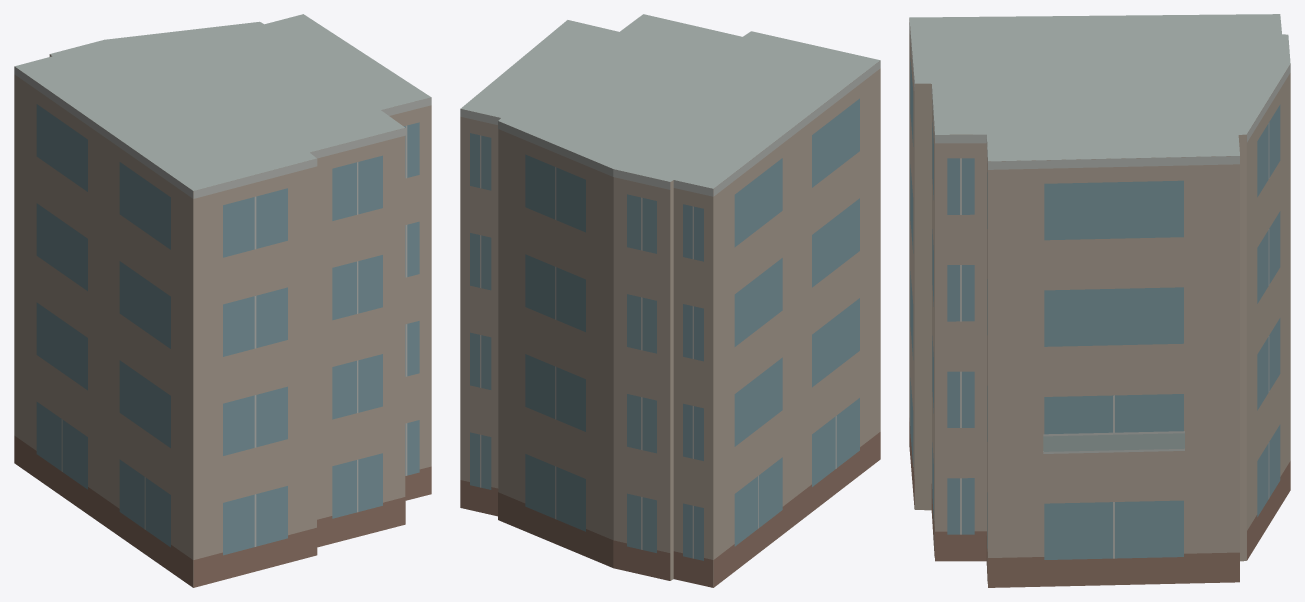
The model's file is survey-upis-32661892.glb.
The picture shows the model from 3 angles, left to right: view 1: azimuth 30°, elevation 25°; view 2: azimuth 150°, elevation 25°; view 3: azimuth 270°, elevation 25°; orthographic projection. The views are drawn at different scales.
Parts seen in each view (by area): view 1: survey-upis-32661892.tmp; view 2: survey-upis-32661892.tmp; view 3: survey-upis-32661892.tmp.
Boxes of the visible parts, x1,y1,x2,y2 form: survey-upis-32661892.tmp: (14,14,431,587); survey-upis-32661892.tmp: (460,14,880,587); survey-upis-32661892.tmp: (909,14,1290,587).
Bounding box in the file's own units: 9.05 × 12.2 × 9.89.
